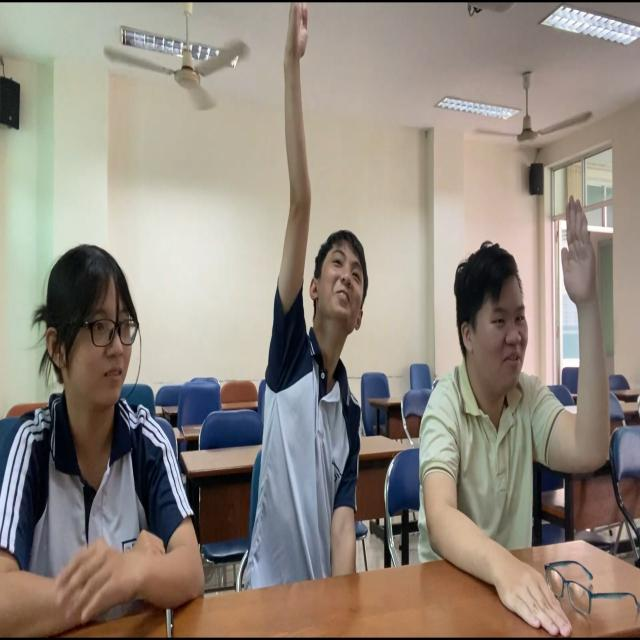raise_hand: (452, 176, 615, 640), (259, 5, 373, 637)
